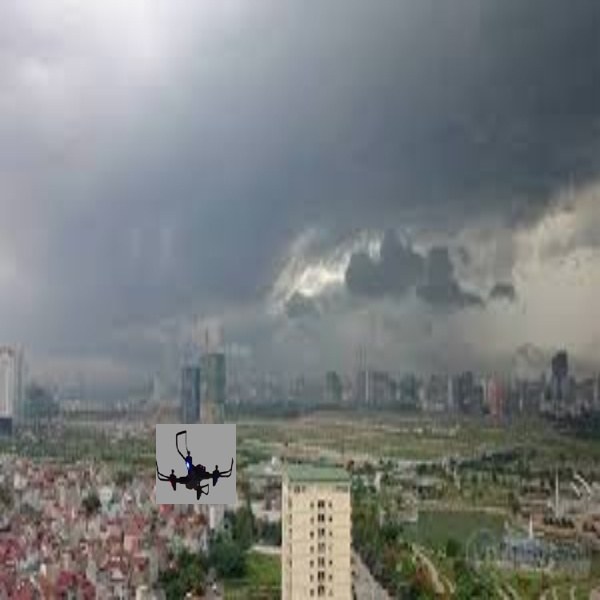drone: (156, 427, 234, 505)
